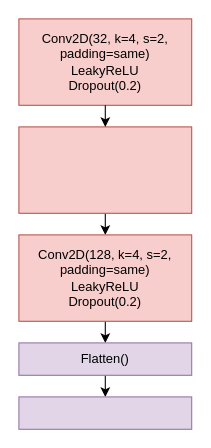
The diagram is 211 pixels wide and 448 high, and some of its shapes have lost their labels. Here are the shapes that lost their labels. From the top down, the centre of each, then its label:
the point at 105,169: Conv2D(64, k=4, s=2, padding=same) LeakyReLU Dropout(0.2)
the point at 105,412: Dense(1, activation=linear)
